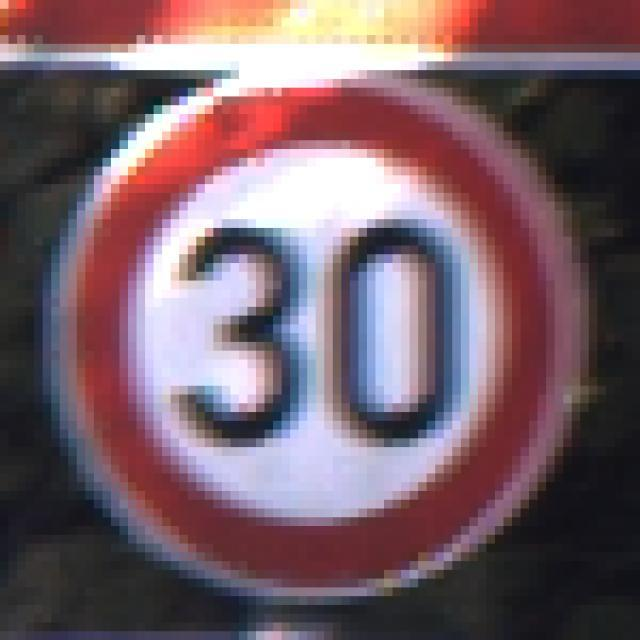speed limit 30: (44, 57, 596, 599)
